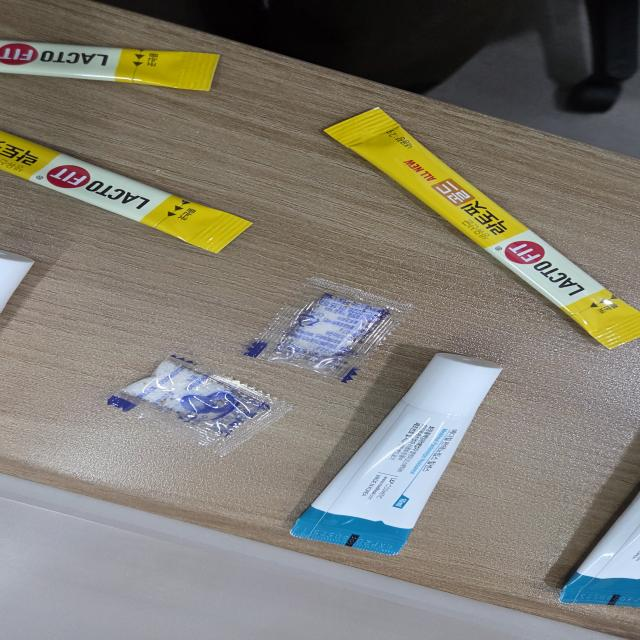lacto: (315, 95, 640, 358), (0, 122, 264, 265), (0, 33, 227, 97)
lip: (273, 342, 523, 562), (555, 480, 640, 619), (0, 242, 49, 326)
salt: (84, 344, 308, 465), (222, 268, 432, 390)
